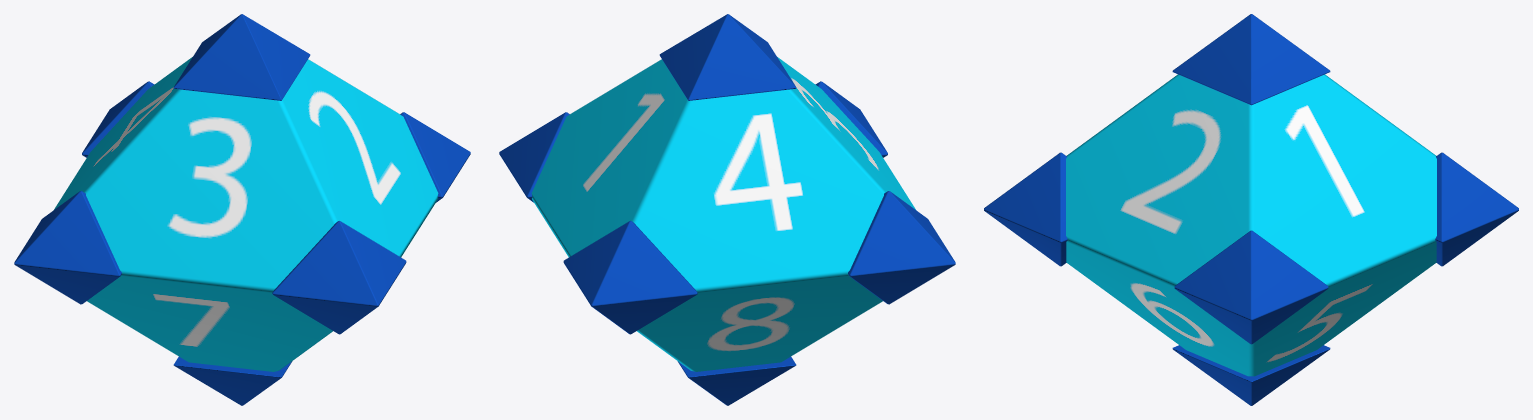
Rendered from MEC0110021.fbx.
3 views of the same model, side by side, from view 1: azimuth 30°, elevation 25°; view 2: azimuth 150°, elevation 25°; view 3: azimuth 270°, elevation 25° (orthographic).
Visible parts, largest first — view 1: smMEC0110021; view 2: smMEC0110021; view 3: smMEC0110021.
Boxes of the visible parts, box(x1,y1,x2,y2) form: smMEC0110021: box(14, 14, 470, 405); smMEC0110021: box(499, 14, 955, 405); smMEC0110021: box(984, 14, 1518, 405).
Bounding box in the file's own units: 62.7 × 51.43 × 63.7.
1 material, 1 textured.
